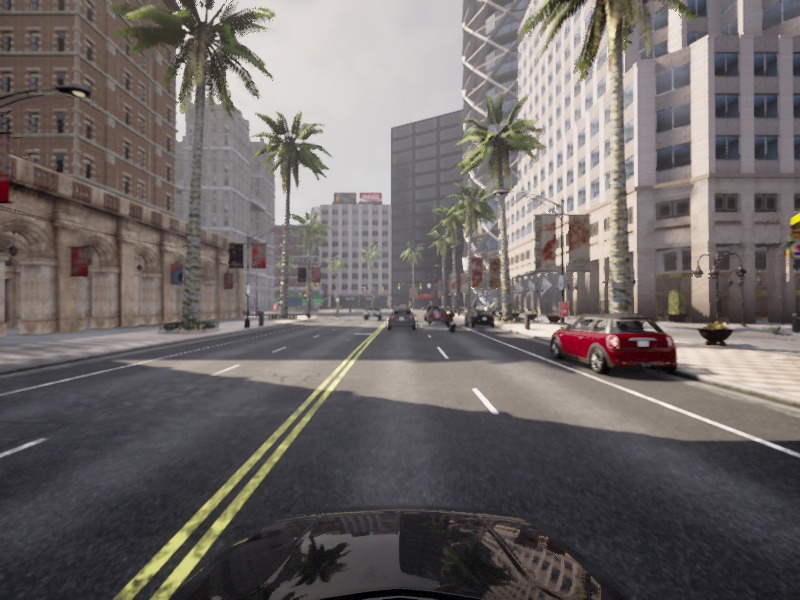vehicle: (387, 307, 416, 330), (425, 307, 449, 325), (443, 309, 458, 333), (390, 306, 412, 322), (423, 304, 442, 322), (363, 304, 382, 321)
